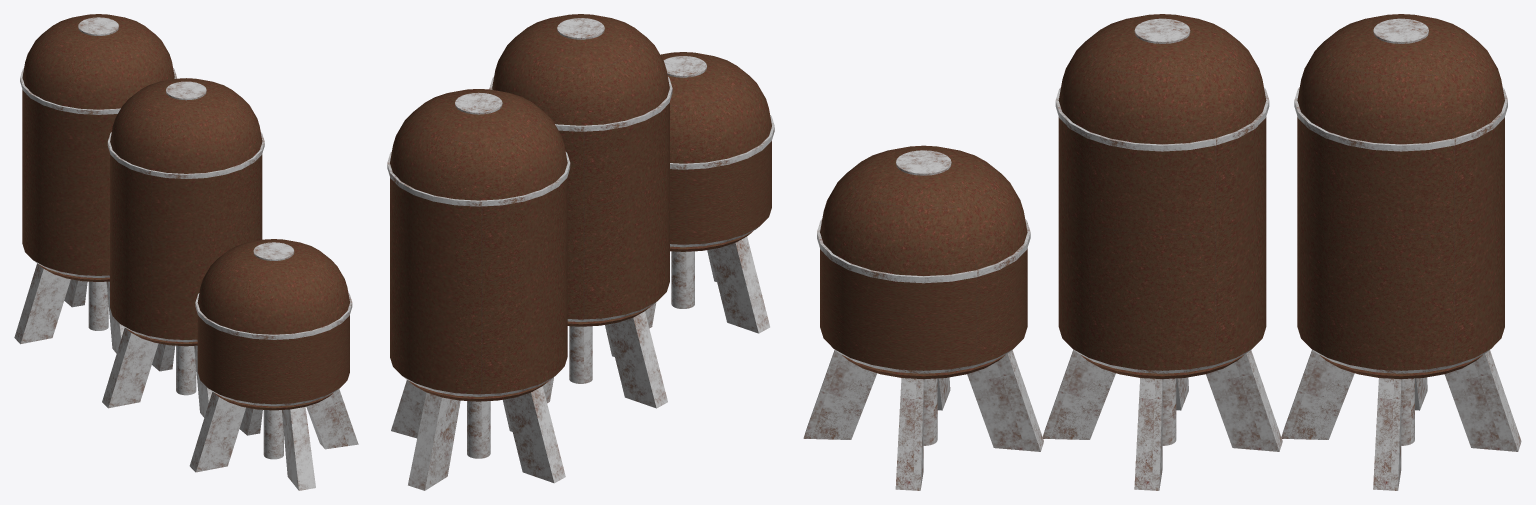
File: RoofTanks-2.fbx
3 renders of one model, left to right at view 1: azimuth 30°, elevation 25°; view 2: azimuth 150°, elevation 25°; view 3: azimuth 270°, elevation 25°, orthographic. The views are drawn at different scales.
Visible parts, largest first — view 1: Cylinder; view 2: Cylinder; view 3: Cylinder.
Part boxes in pixels (box(x1,y1,x2,y2)): Cylinder: box(14, 14, 358, 490); Cylinder: box(387, 14, 774, 490); Cylinder: box(803, 14, 1521, 490).
Bounding box in the file's own units: 692 × 232 × 436.
2 materials, 2 textured.
